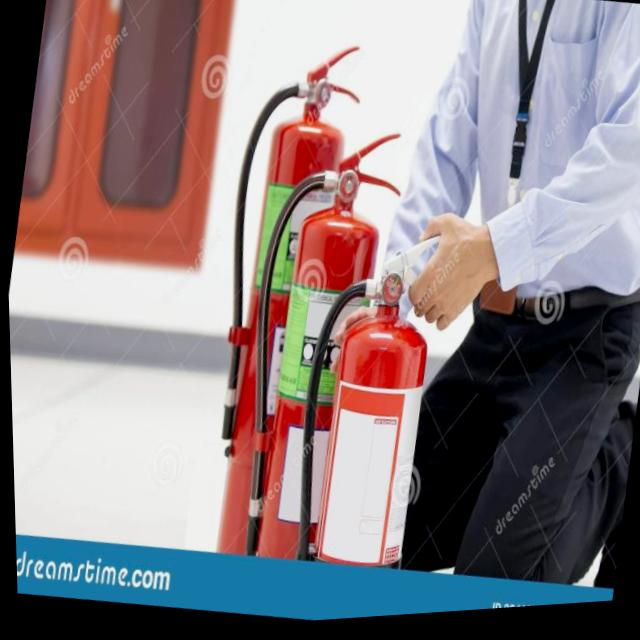FireExtinguisher: (175, 32, 379, 568), (210, 117, 419, 577), (273, 217, 468, 584)
